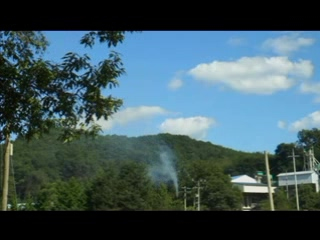smoke: (147, 145, 182, 199)
